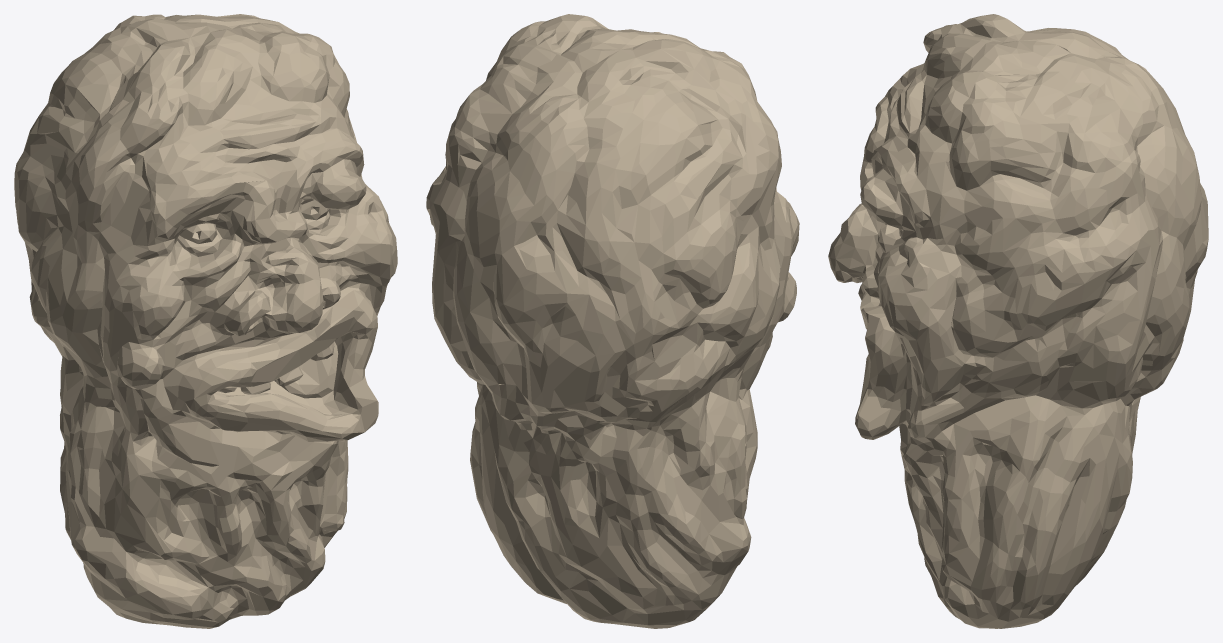
The model's file is Gargoyle_05.glb.
The picture shows the model from 3 angles, left to right: view 1: azimuth 30°, elevation 25°; view 2: azimuth 150°, elevation 25°; view 3: azimuth 270°, elevation 25°; orthographic projection. The views are drawn at different scales.
Visible parts, largest first — view 1: Gargoyle_05; view 2: Gargoyle_05; view 3: Gargoyle_05.
Boxes of the visible parts, box(x1,y1,x2,y2) form: Gargoyle_05: box(14, 14, 397, 628); Gargoyle_05: box(426, 14, 799, 628); Gargoyle_05: box(828, 14, 1208, 628).
Bounding box in the file's own units: 1.66 × 3.03 × 1.82.
